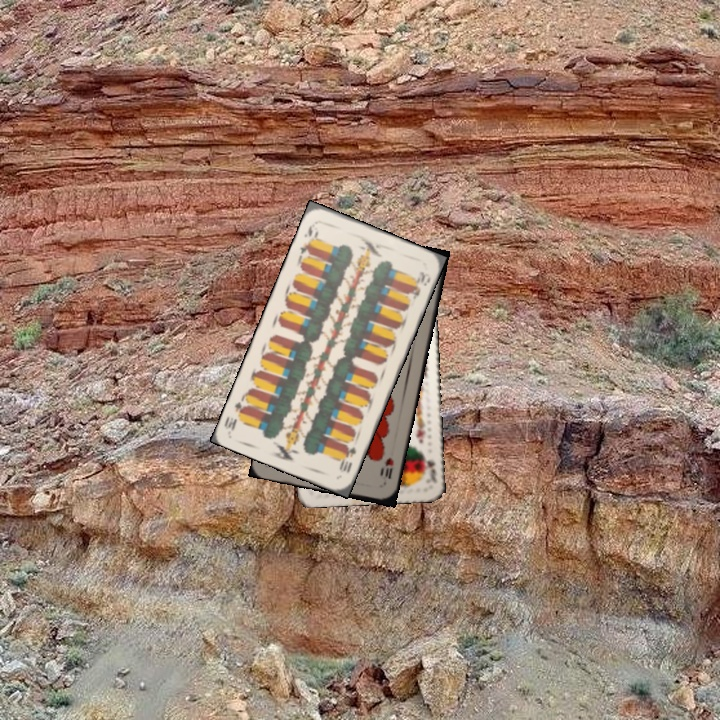E10: (296, 220, 321, 257), (335, 441, 359, 475)
H10: (381, 453, 396, 482)
SK: (419, 448, 439, 483)
